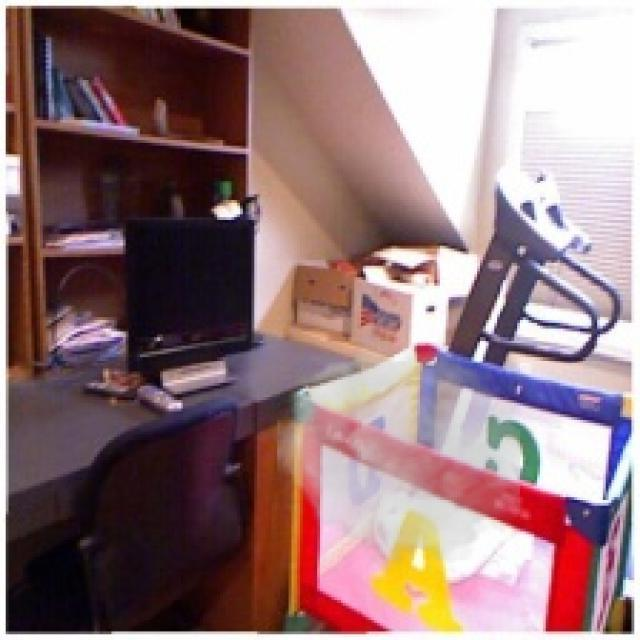Smoke: (277, 334, 520, 572)
